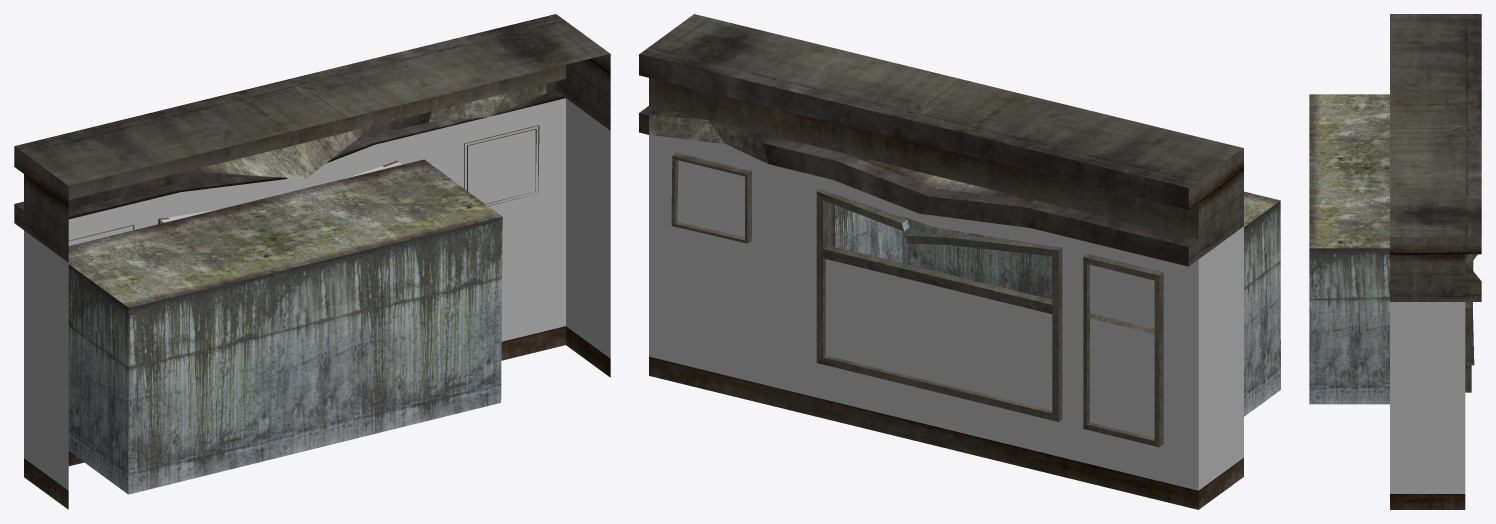
Rendered from Store_front_16_E.fbx.
3 renders of one model, left to right at view 1: azimuth 30°, elevation 25°; view 2: azimuth 150°, elevation 25°; view 3: azimuth 270°, elevation 25°, orthographic. The views are drawn at different scales.
Parts seen in each view (by area): view 1: Store_front_16_E; view 2: Store_front_16_E; view 3: Store_front_16_E.
Boxes of the visible parts, <box> form: Store_front_16_E: <box>14,14,610,509</box>; Store_front_16_E: <box>639,14,1280,509</box>; Store_front_16_E: <box>1309,14,1481,509</box>.
Size of the model in its own units: 700 by 400 by 229.
